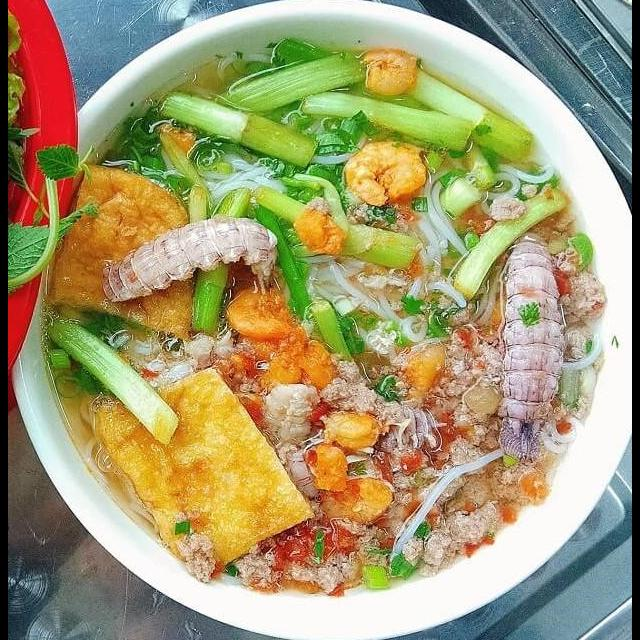bun: (282, 153, 562, 361), (184, 139, 374, 210)
bun hai san: (42, 33, 632, 624)
dau hu: (86, 362, 321, 576), (37, 158, 203, 350)
thit bam: (310, 318, 515, 583), (265, 355, 442, 506), (228, 514, 402, 596), (545, 245, 620, 372)
tom: (339, 134, 431, 214), (355, 41, 425, 100)
tom tit: (493, 223, 570, 469), (94, 212, 287, 304)
